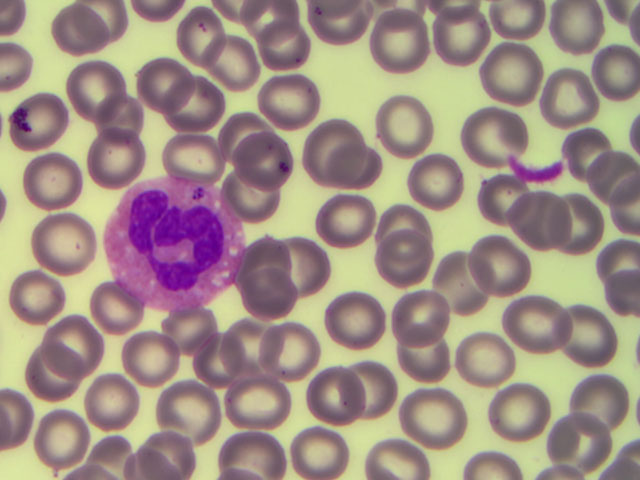Platelets: (514, 157, 563, 182)
RBC: (132, 424, 189, 480), (223, 424, 280, 480), (297, 424, 354, 480), (375, 424, 432, 480), (54, 3, 111, 58), (66, 62, 123, 117), (99, 90, 156, 145), (87, 135, 144, 190), (162, 123, 219, 178), (165, 81, 222, 136), (137, 57, 194, 112), (175, 3, 232, 58), (198, 44, 255, 99), (244, 20, 301, 75), (242, 3, 299, 58), (264, 77, 321, 132), (205, 92, 262, 147), (239, 137, 296, 192), (222, 166, 279, 221), (301, 122, 358, 177), (326, 144, 383, 199), (370, 95, 427, 150), (376, 15, 433, 70), (316, 2, 373, 57), (433, 10, 490, 65), (486, 45, 543, 100), (542, 69, 599, 124), (583, 43, 640, 98), (555, 2, 612, 57), (564, 120, 621, 175), (578, 137, 635, 192), (556, 196, 613, 251), (511, 191, 568, 246), (477, 169, 534, 224), (411, 155, 468, 210), (464, 109, 521, 164), (375, 191, 432, 246), (373, 235, 430, 290), (324, 198, 381, 253), (273, 239, 330, 294), (233, 228, 290, 283), (239, 269, 296, 324), (162, 306, 219, 361), (110, 337, 167, 392), (92, 278, 149, 333), (48, 320, 105, 375), (21, 350, 78, 405), (19, 265, 76, 320), (38, 229, 95, 284), (27, 152, 84, 207), (15, 92, 72, 147), (162, 382, 219, 437), (84, 377, 141, 432), (36, 411, 93, 466), (235, 381, 292, 436), (224, 318, 281, 373), (188, 332, 245, 387), (268, 324, 325, 379), (303, 368, 360, 423), (339, 365, 396, 420), (404, 392, 461, 447), (397, 334, 454, 389), (394, 293, 451, 348), (325, 292, 382, 347), (438, 256, 495, 311), (459, 240, 516, 295), (503, 289, 560, 344), (554, 305, 611, 360), (574, 369, 631, 424), (550, 422, 607, 477), (491, 381, 548, 436), (455, 331, 512, 386), (488, 1, 545, 55), (599, 237, 640, 297)
WBC: (107, 178, 243, 310)
